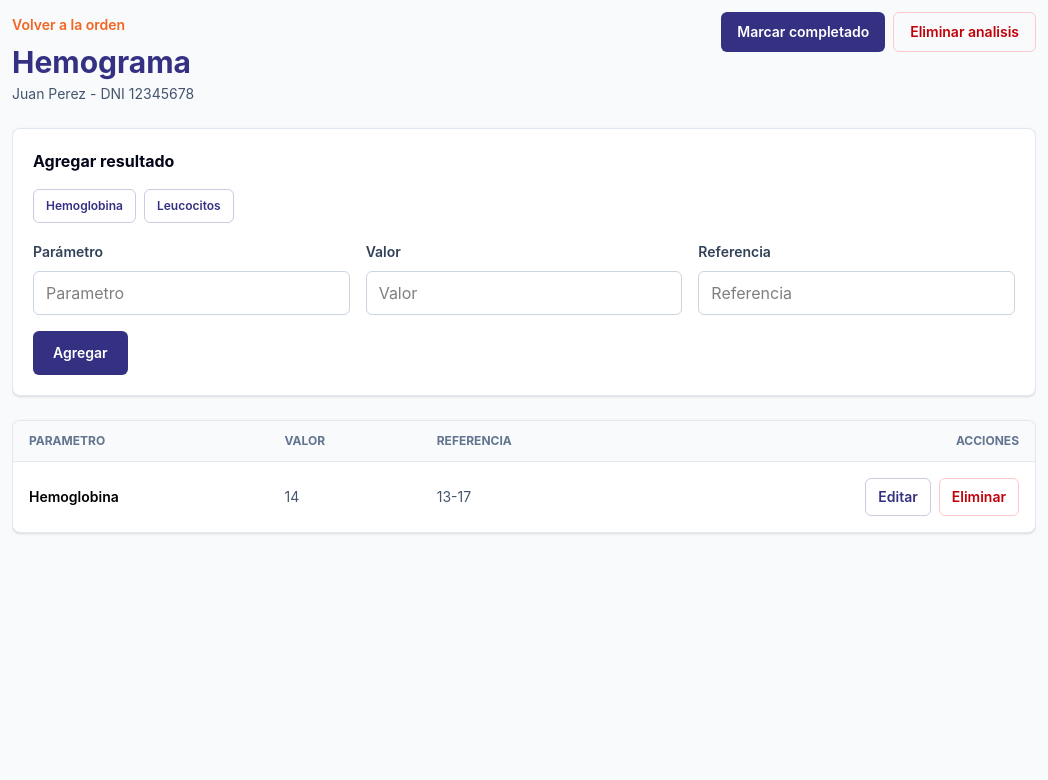
Test: AdminAnalysisDetail › fills the form when a suggested parameter button is clicked
Expected: the heading "Hemograma" is shown, x1=12 y1=44 x2=194 y2=80
Click the button "Leucocitos" at [189, 206], box x1=144 y1=189 x2=234 y2=223
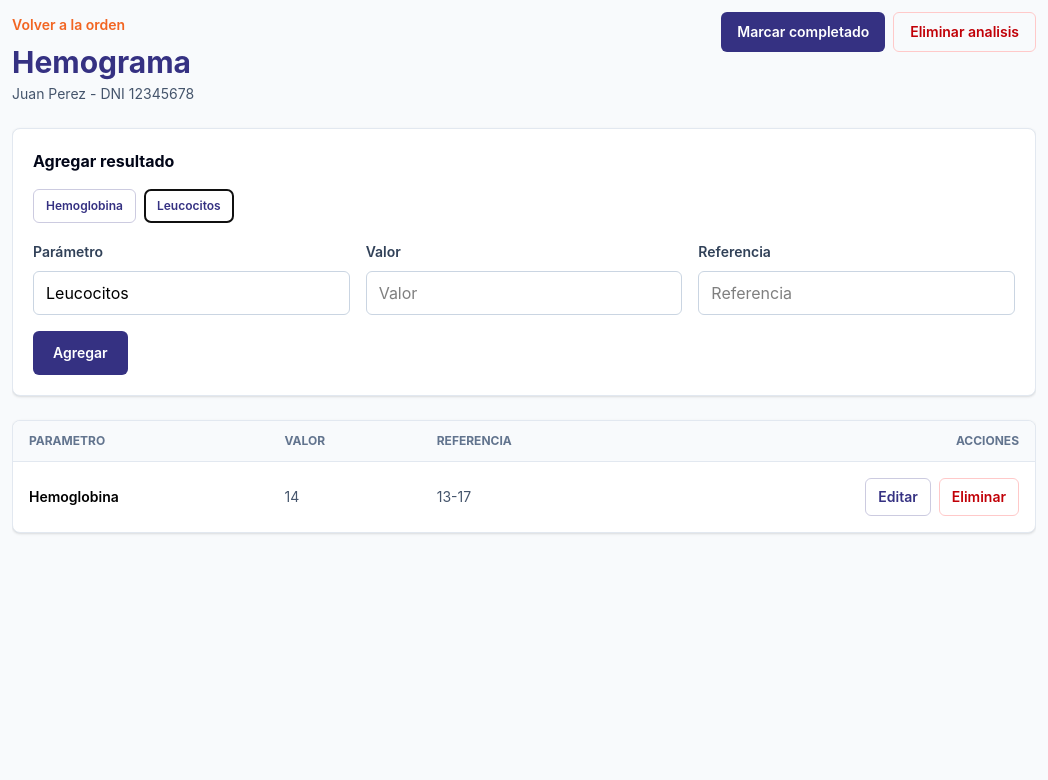
Expected: the field with placeholder "Parametro" holds "Leucocitos", x1=33 y1=271 x2=350 y2=315
